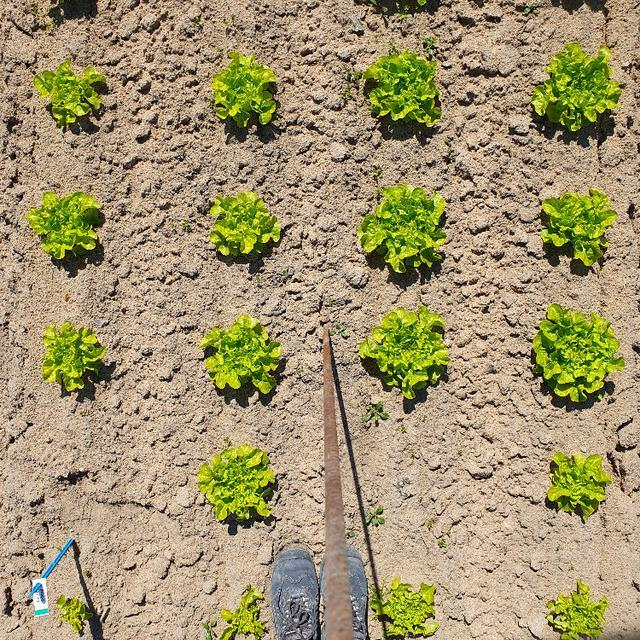Lettuce: (526, 300, 626, 408), (362, 302, 463, 405), (524, 40, 624, 142), (356, 178, 452, 282), (360, 43, 447, 135), (200, 313, 290, 400), (197, 440, 288, 525), (538, 187, 625, 275), (205, 45, 288, 135), (30, 62, 115, 133), (28, 188, 105, 265), (200, 187, 283, 258), (38, 316, 105, 396), (542, 447, 615, 518), (372, 580, 448, 640), (545, 580, 610, 640), (215, 583, 270, 640), (52, 590, 95, 637)
